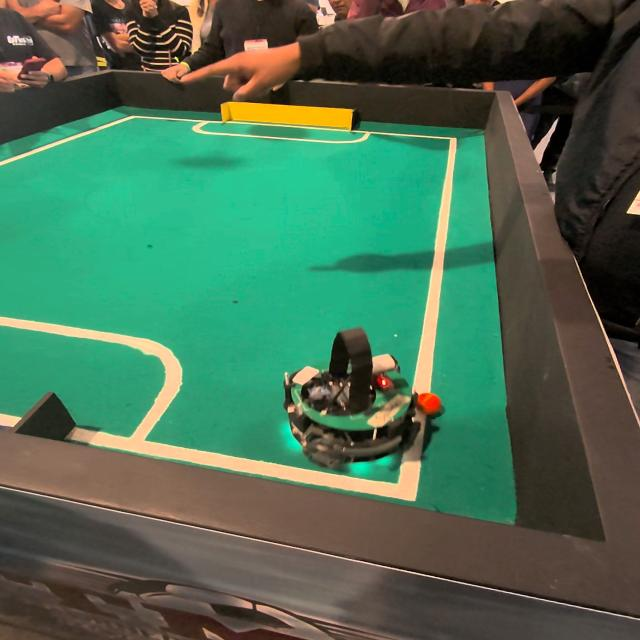Robot: (279, 314, 423, 476)
pelota: (419, 392, 444, 415)
